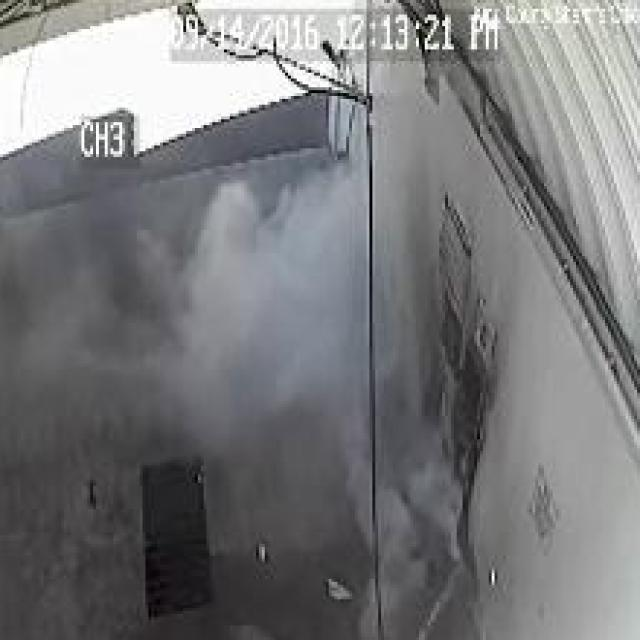fire: (172, 160, 366, 457)
